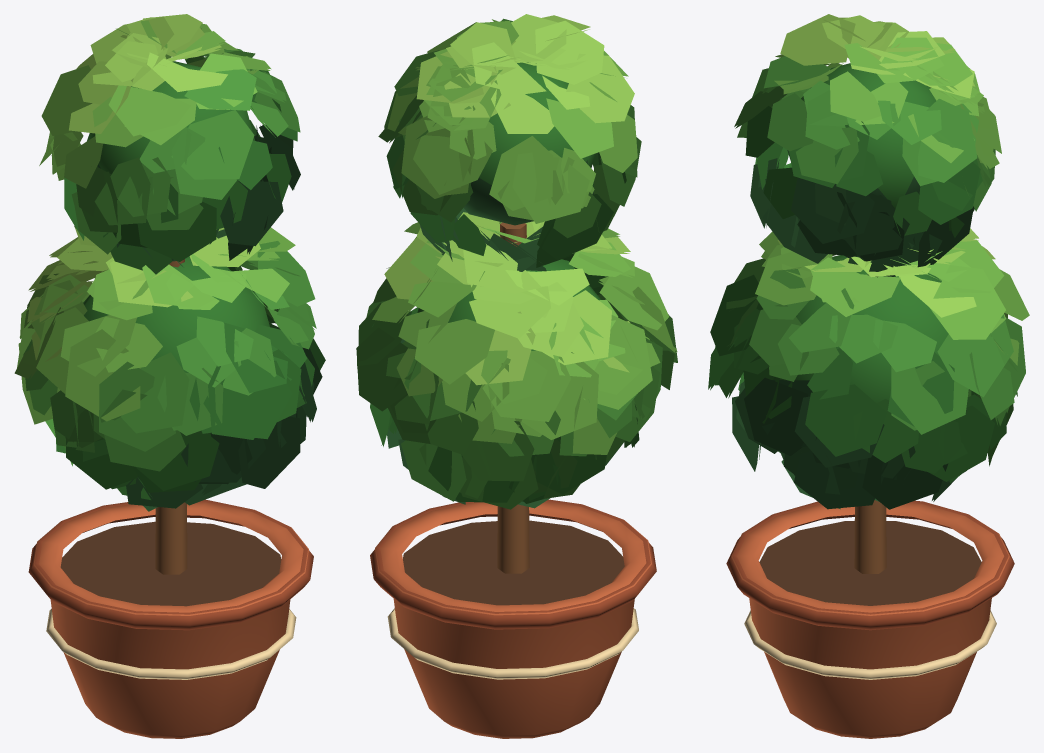
The model's file is Topiary.glb.
3 views of the same model, side by side, from view 1: azimuth 30°, elevation 25°; view 2: azimuth 150°, elevation 25°; view 3: azimuth 270°, elevation 25° (orthographic).
Visible parts, largest first — view 1: Body; view 2: Body; view 3: Body.
Part boxes in pixels (bbox=[...]): Body: bbox=[14, 14, 325, 738]; Body: bbox=[356, 14, 677, 738]; Body: bbox=[708, 14, 1029, 738].
Bounding box in the file's own units: 1.92 × 4.5 × 1.94.
1 material, 1 textured.
